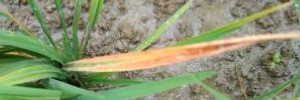RiceTungro: (56, 36, 300, 76)
